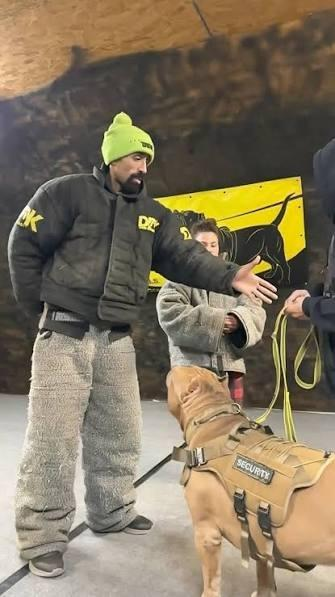adult_dog: (164, 366, 335, 597)
non-dog: (7, 112, 278, 578), (154, 218, 265, 418), (280, 135, 335, 433)
